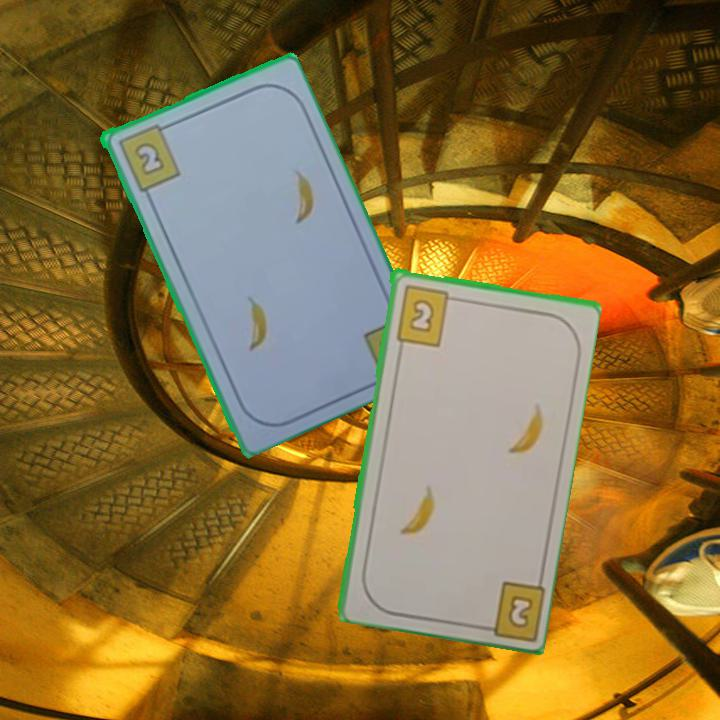2b: (113, 119, 183, 194), (392, 281, 460, 349), (473, 577, 546, 640)
